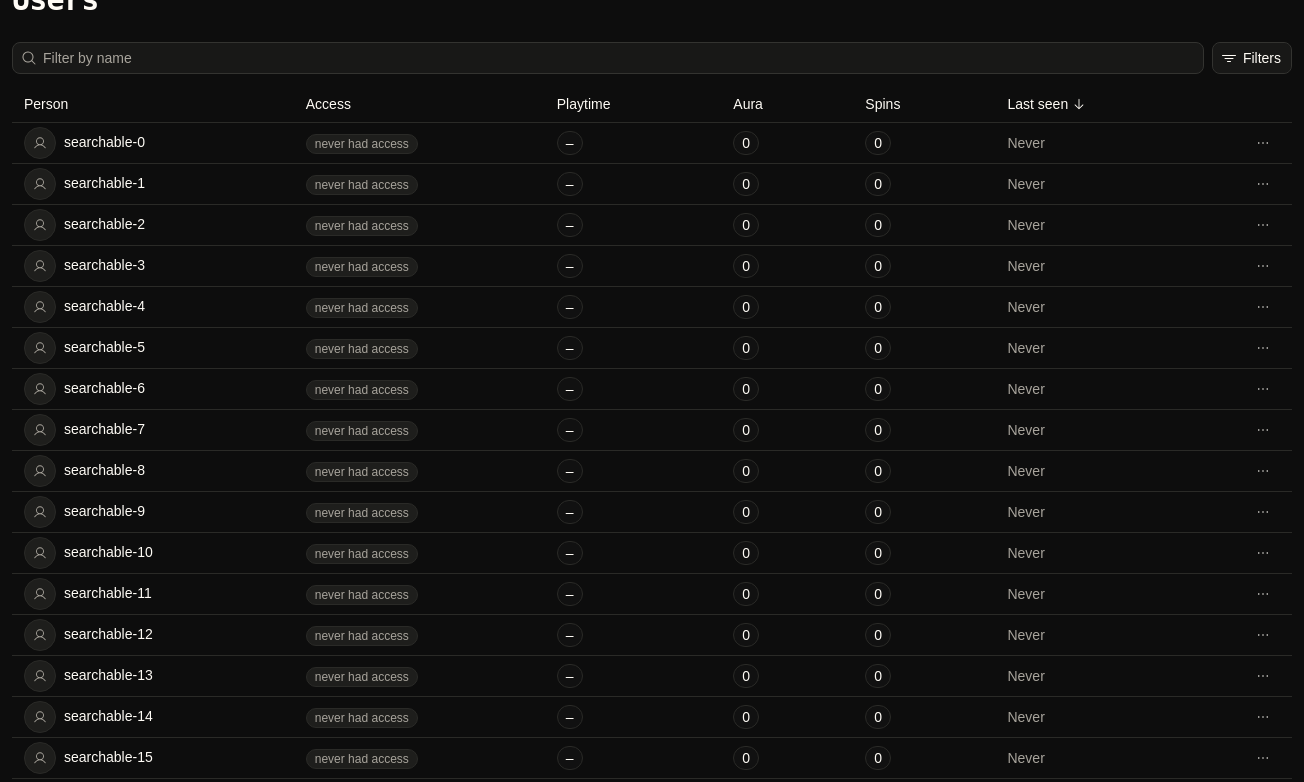
Test: AccessPage - pagination filters the whole roster before it pages › holds 21 matches over two pages of at most 20, without the second page vanishing from the search
In the search field labelled "Filter by name": point(620, 58) [37,43,1203,73], type "searchable"
(page scrolled)
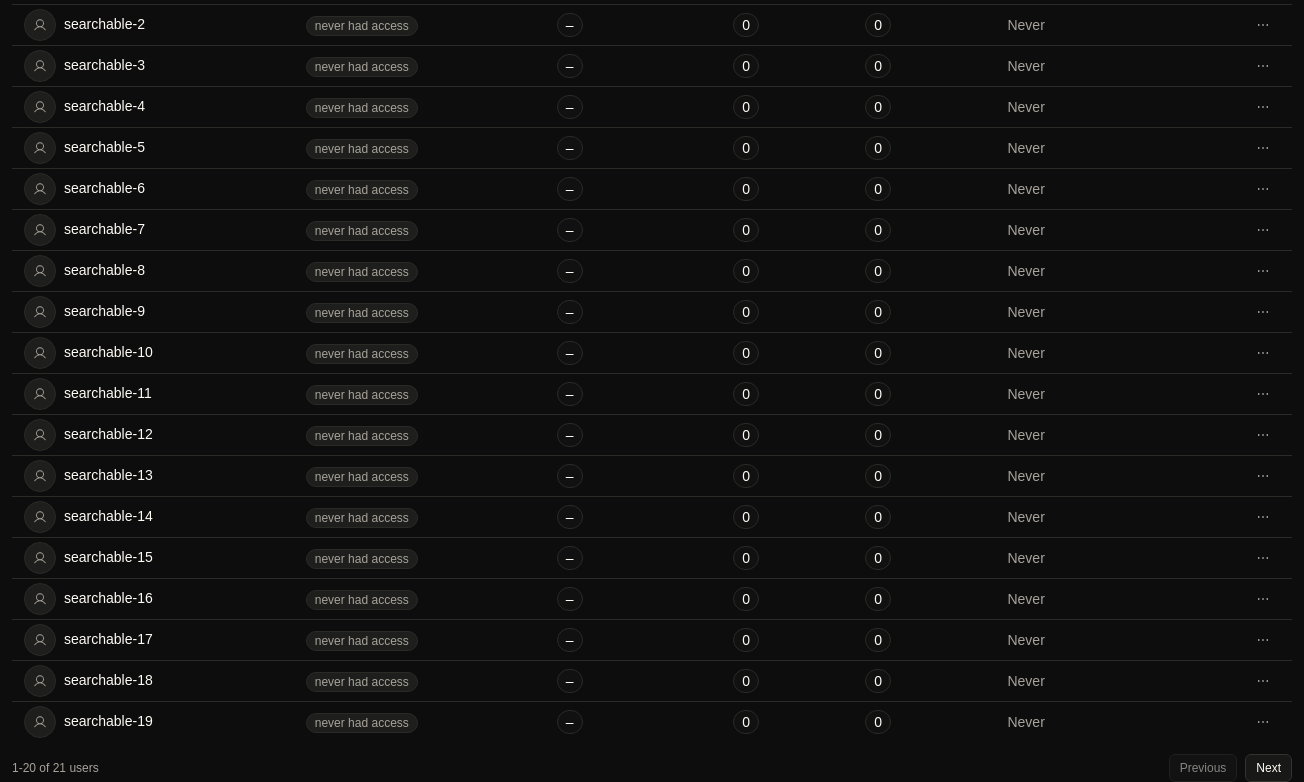
Expected: the text "1-20 of 21 users" is shown, [12,760,99,776]
Click the button "Next": point(1269, 768) [1245,754,1292,781]
(page scrolled)
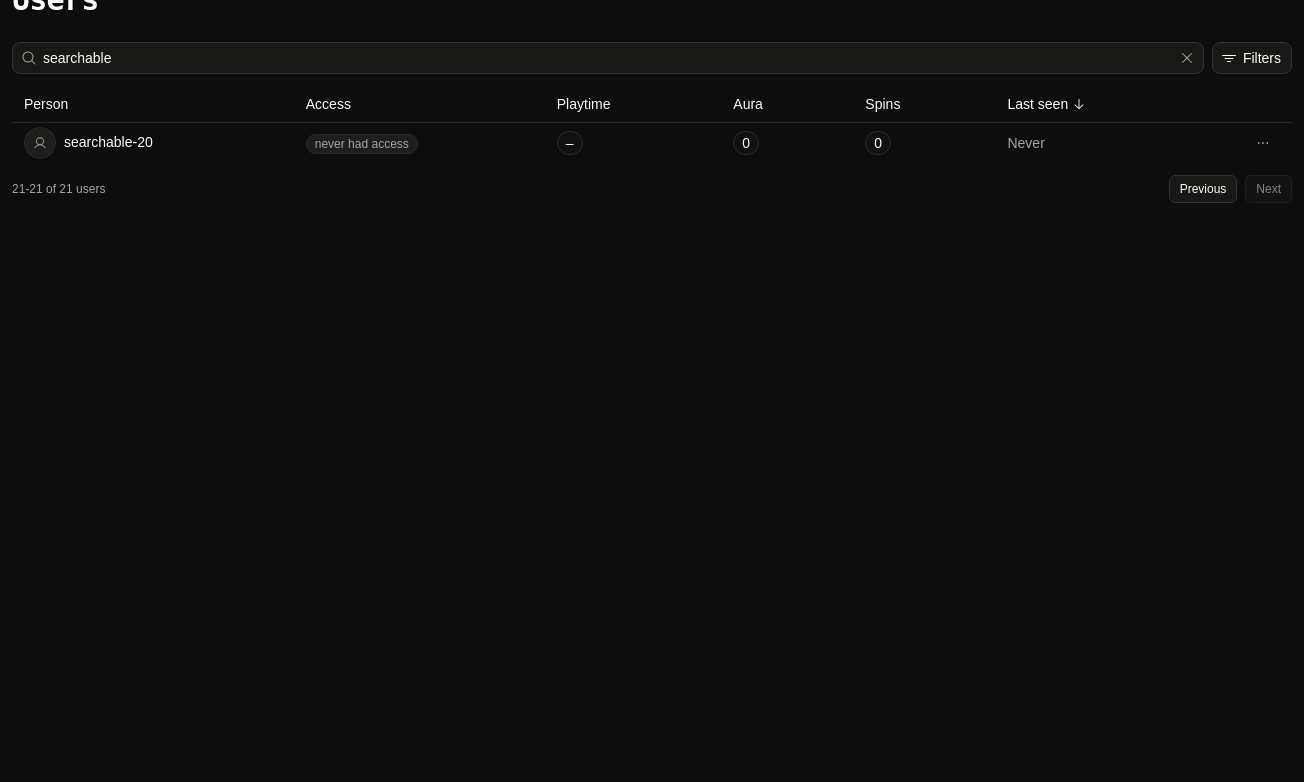
Result: the text "21-21 of 21 users" is shown at [12,181,105,197]
